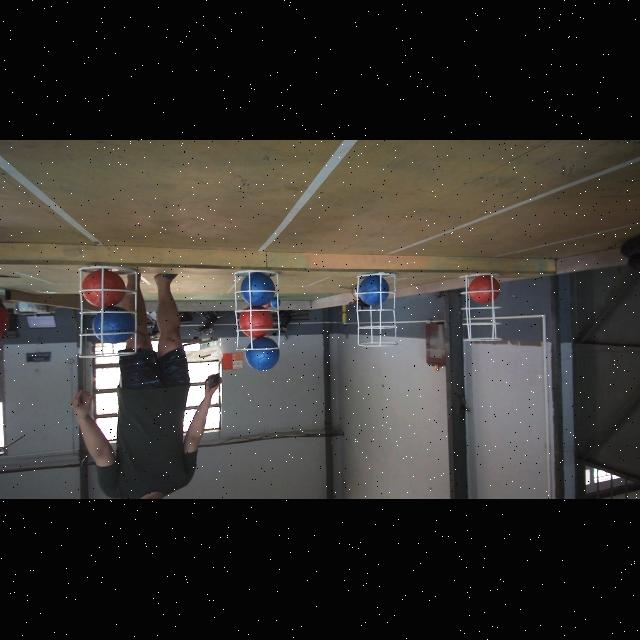B: (94, 308, 136, 344), (245, 336, 282, 372), (240, 275, 278, 307), (358, 274, 390, 306)
R: (83, 266, 127, 310), (240, 306, 274, 338), (468, 276, 502, 304)
